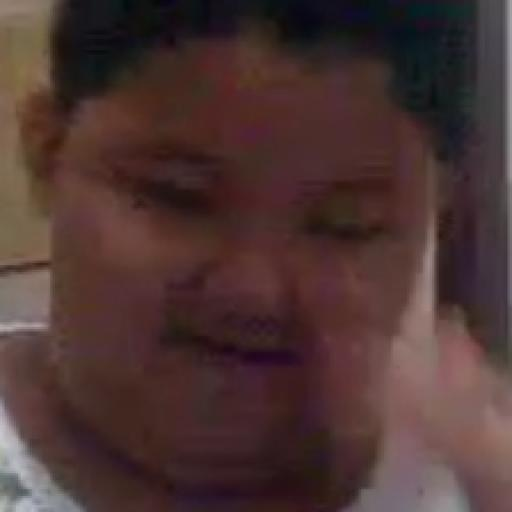Autism: (60, 21, 512, 473)
